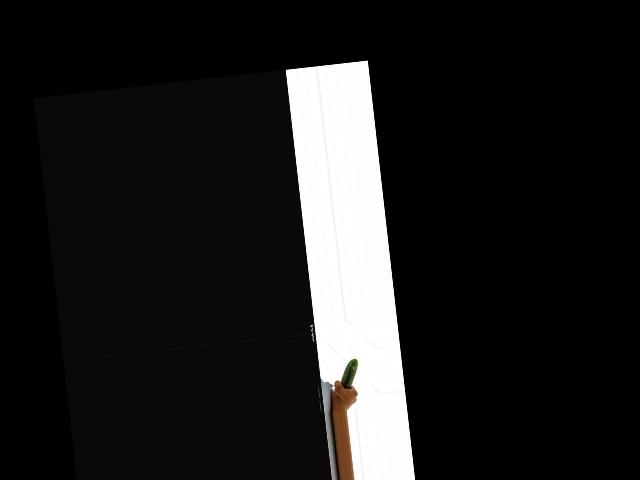cucumber: (338, 358, 360, 390)
